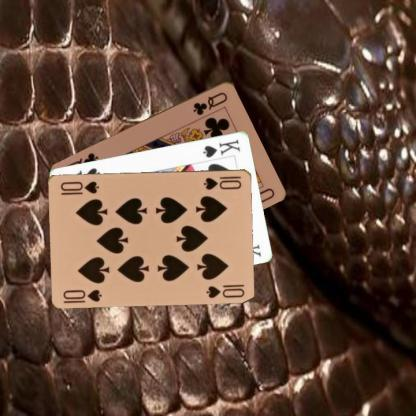10s: (202, 173, 244, 191), (60, 286, 104, 302)
Ks: (200, 137, 242, 159)
Qc: (191, 89, 228, 116)
